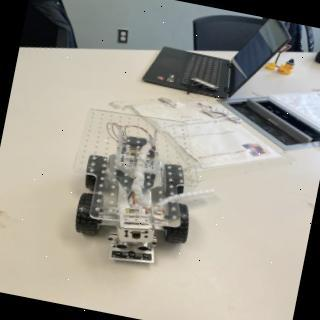vehicle: (57, 104, 217, 278)
